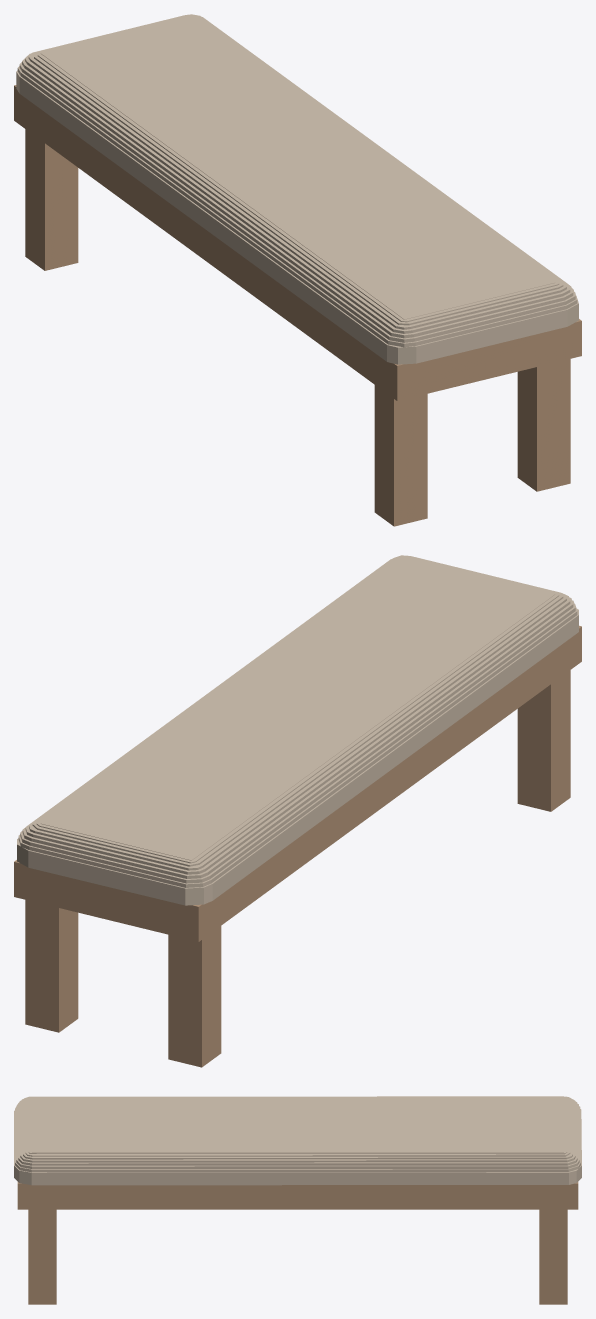
File: SM_Bench_Bed.fbx
3 views of the same model, one above another, from view 1: azimuth 30°, elevation 25°; view 2: azimuth 150°, elevation 25°; view 3: azimuth 270°, elevation 25° (orthographic). The views are drawn at different scales.
Parts seen in each view (by area): view 1: SM_Bench_Bed; view 2: SM_Bench_Bed; view 3: SM_Bench_Bed.
Boxes of the visible parts, left/top/right/bottom form: SM_Bench_Bed: left=14, top=14, right=581, bottom=526; SM_Bench_Bed: left=14, top=555, right=581, bottom=1067; SM_Bench_Bed: left=14, top=1096, right=581, bottom=1304.
Size of the model in its own units: 46 by 46 by 160.
